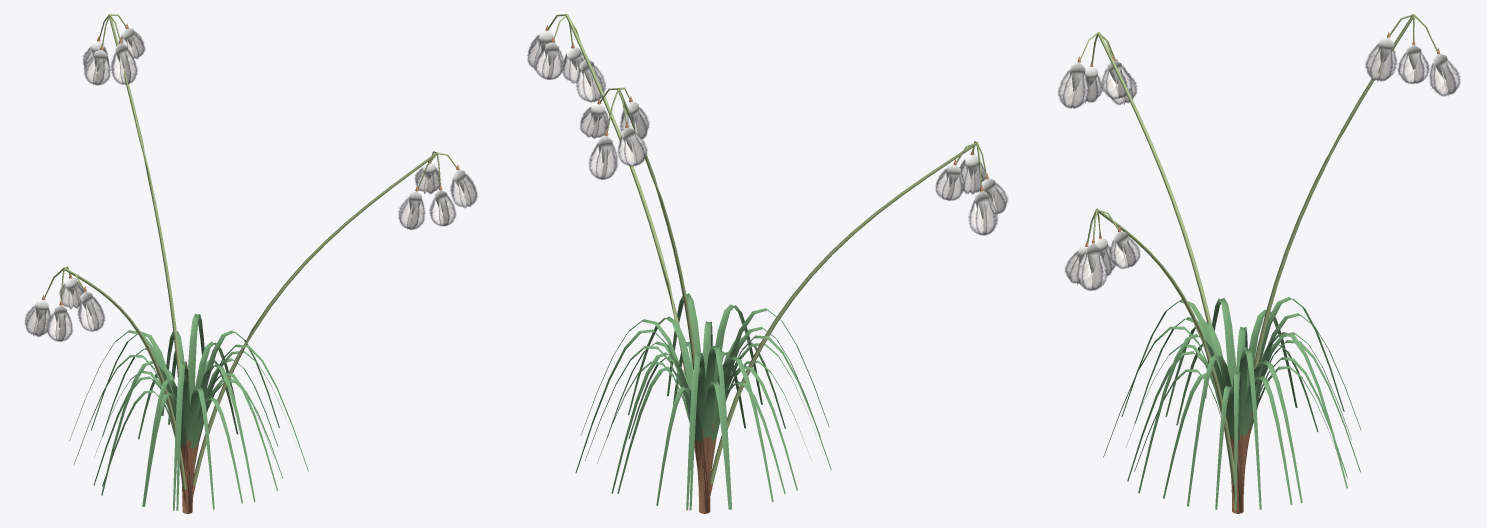
Rendered from cottongrass-v1.glb.
3 renders of one model, left to right at view 1: azimuth 30°, elevation 25°; view 2: azimuth 150°, elevation 25°; view 3: azimuth 270°, elevation 25°, orthographic. The views are drawn at different scales.
Parts seen in each view (by area): view 1: leaf-tuft, cotton-head-0, cotton-cluster-a, cotton-cores; view 2: leaf-tuft, cotton-head-0, cotton-cluster-a, cotton-cores; view 3: leaf-tuft, cotton-head-0, cotton-cluster-a, cotton-cores.
Part boxes in pixels (x1,y1,x2,y2): leaf-tuft: (69, 313, 308, 510); cotton-head-0: (24, 31, 477, 341); cotton-cluster-a: (42, 14, 459, 513); cotton-cores: (35, 28, 466, 329); leaf-tuft: (575, 293, 831, 510); cotton-head-0: (527, 35, 1008, 235); cotton-cluster-a: (545, 14, 988, 513); cotton-cores: (538, 30, 996, 221); leaf-tuft: (1103, 297, 1361, 510); cotton-head-0: (1058, 43, 1460, 290); cotton-cluster-a: (1077, 14, 1439, 513); cotton-cores: (1070, 37, 1448, 275).
Size of the model in its own units: 0.4572 by 0.4261 by 0.3285.
Materials: 5 (1 with a texture image).
